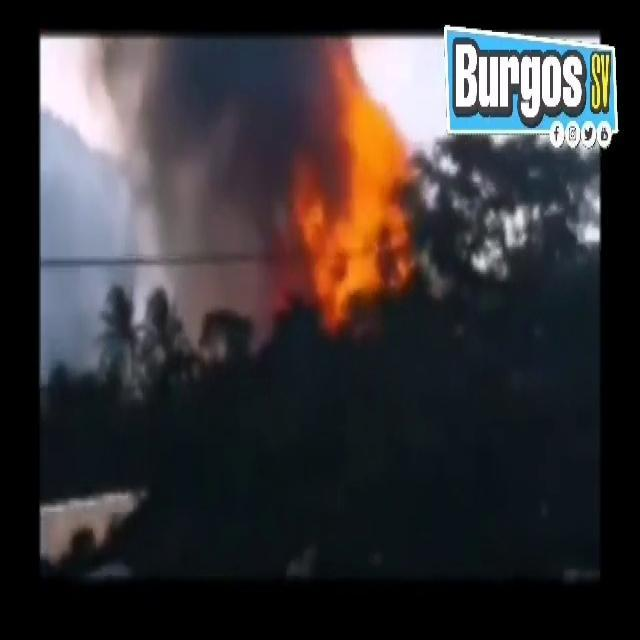Fire: (318, 52, 427, 332)
Smoke: (97, 43, 311, 330)
